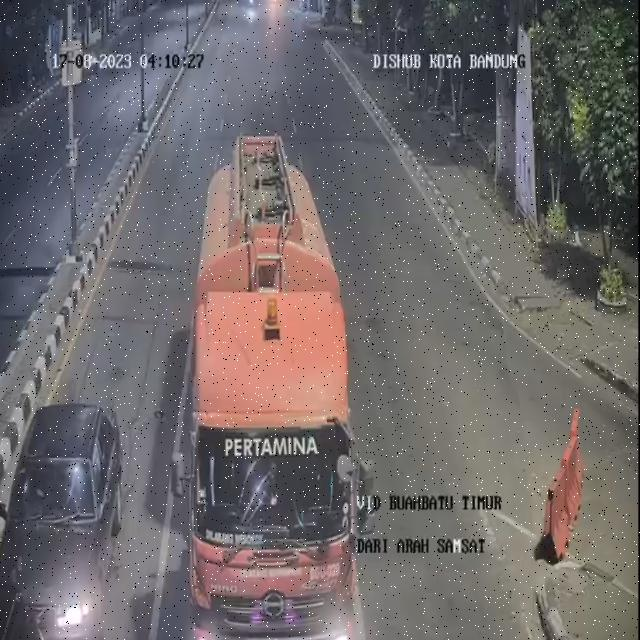cars: (0, 404, 127, 639)
truck: (181, 242, 354, 640)
